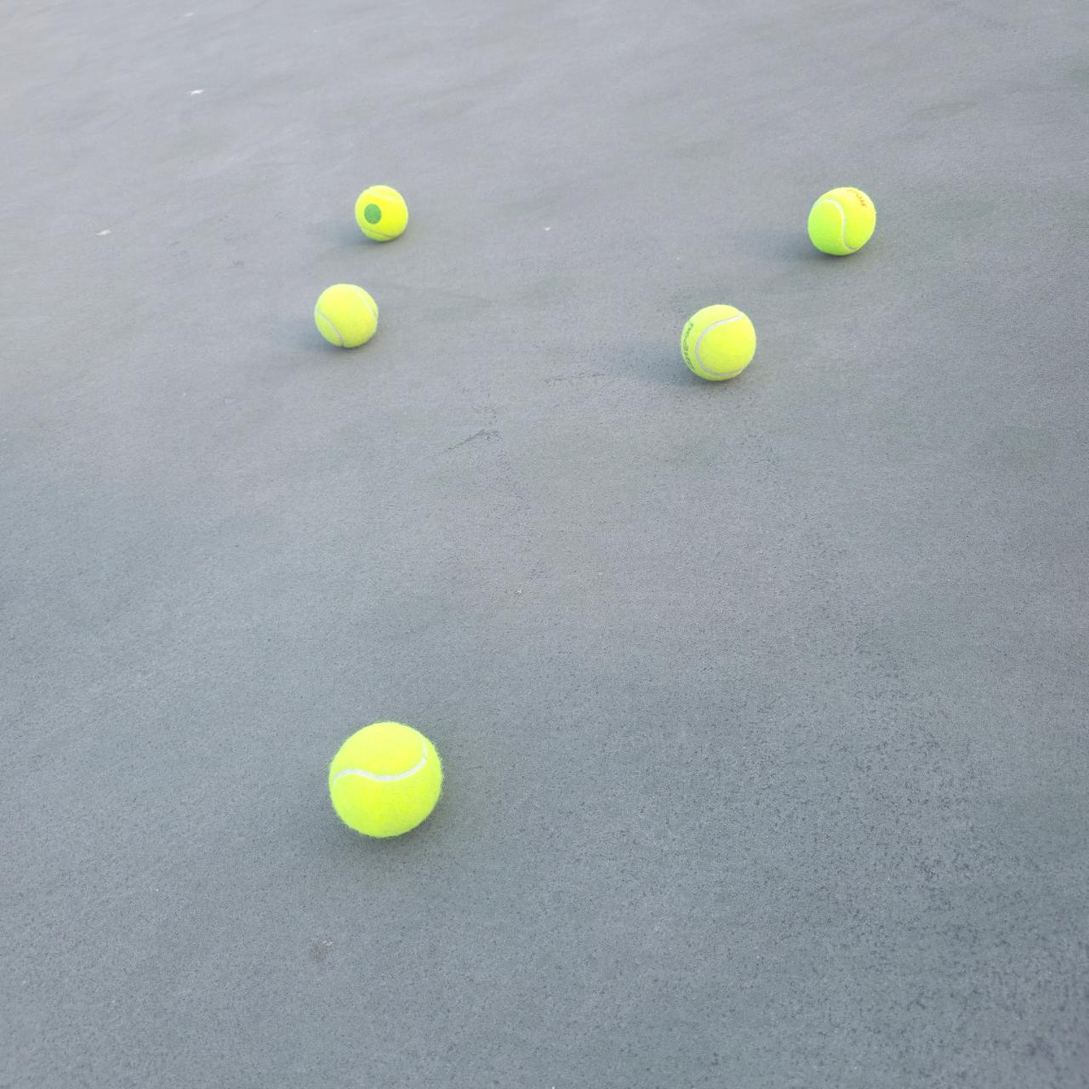tennis-ball: (328, 717, 447, 840), (680, 301, 759, 382), (807, 183, 879, 257), (312, 283, 380, 351), (353, 184, 409, 243)
